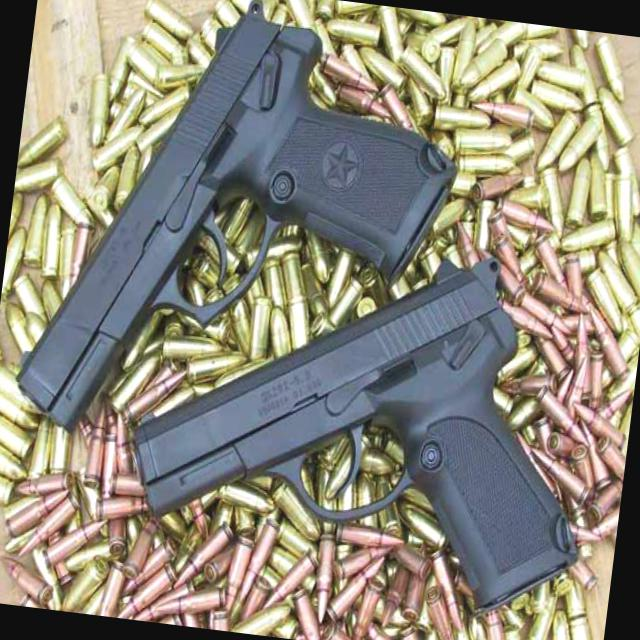handgun: (3, 0, 478, 478), (116, 214, 610, 608)
